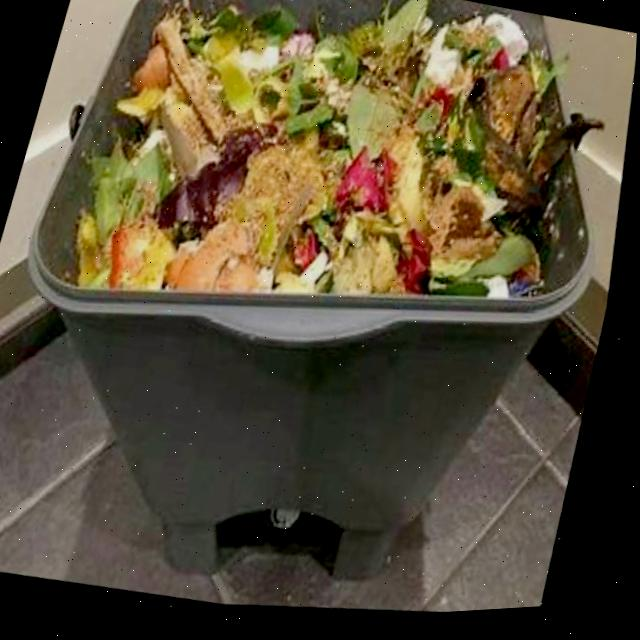Garbage: (80, 0, 606, 307)
